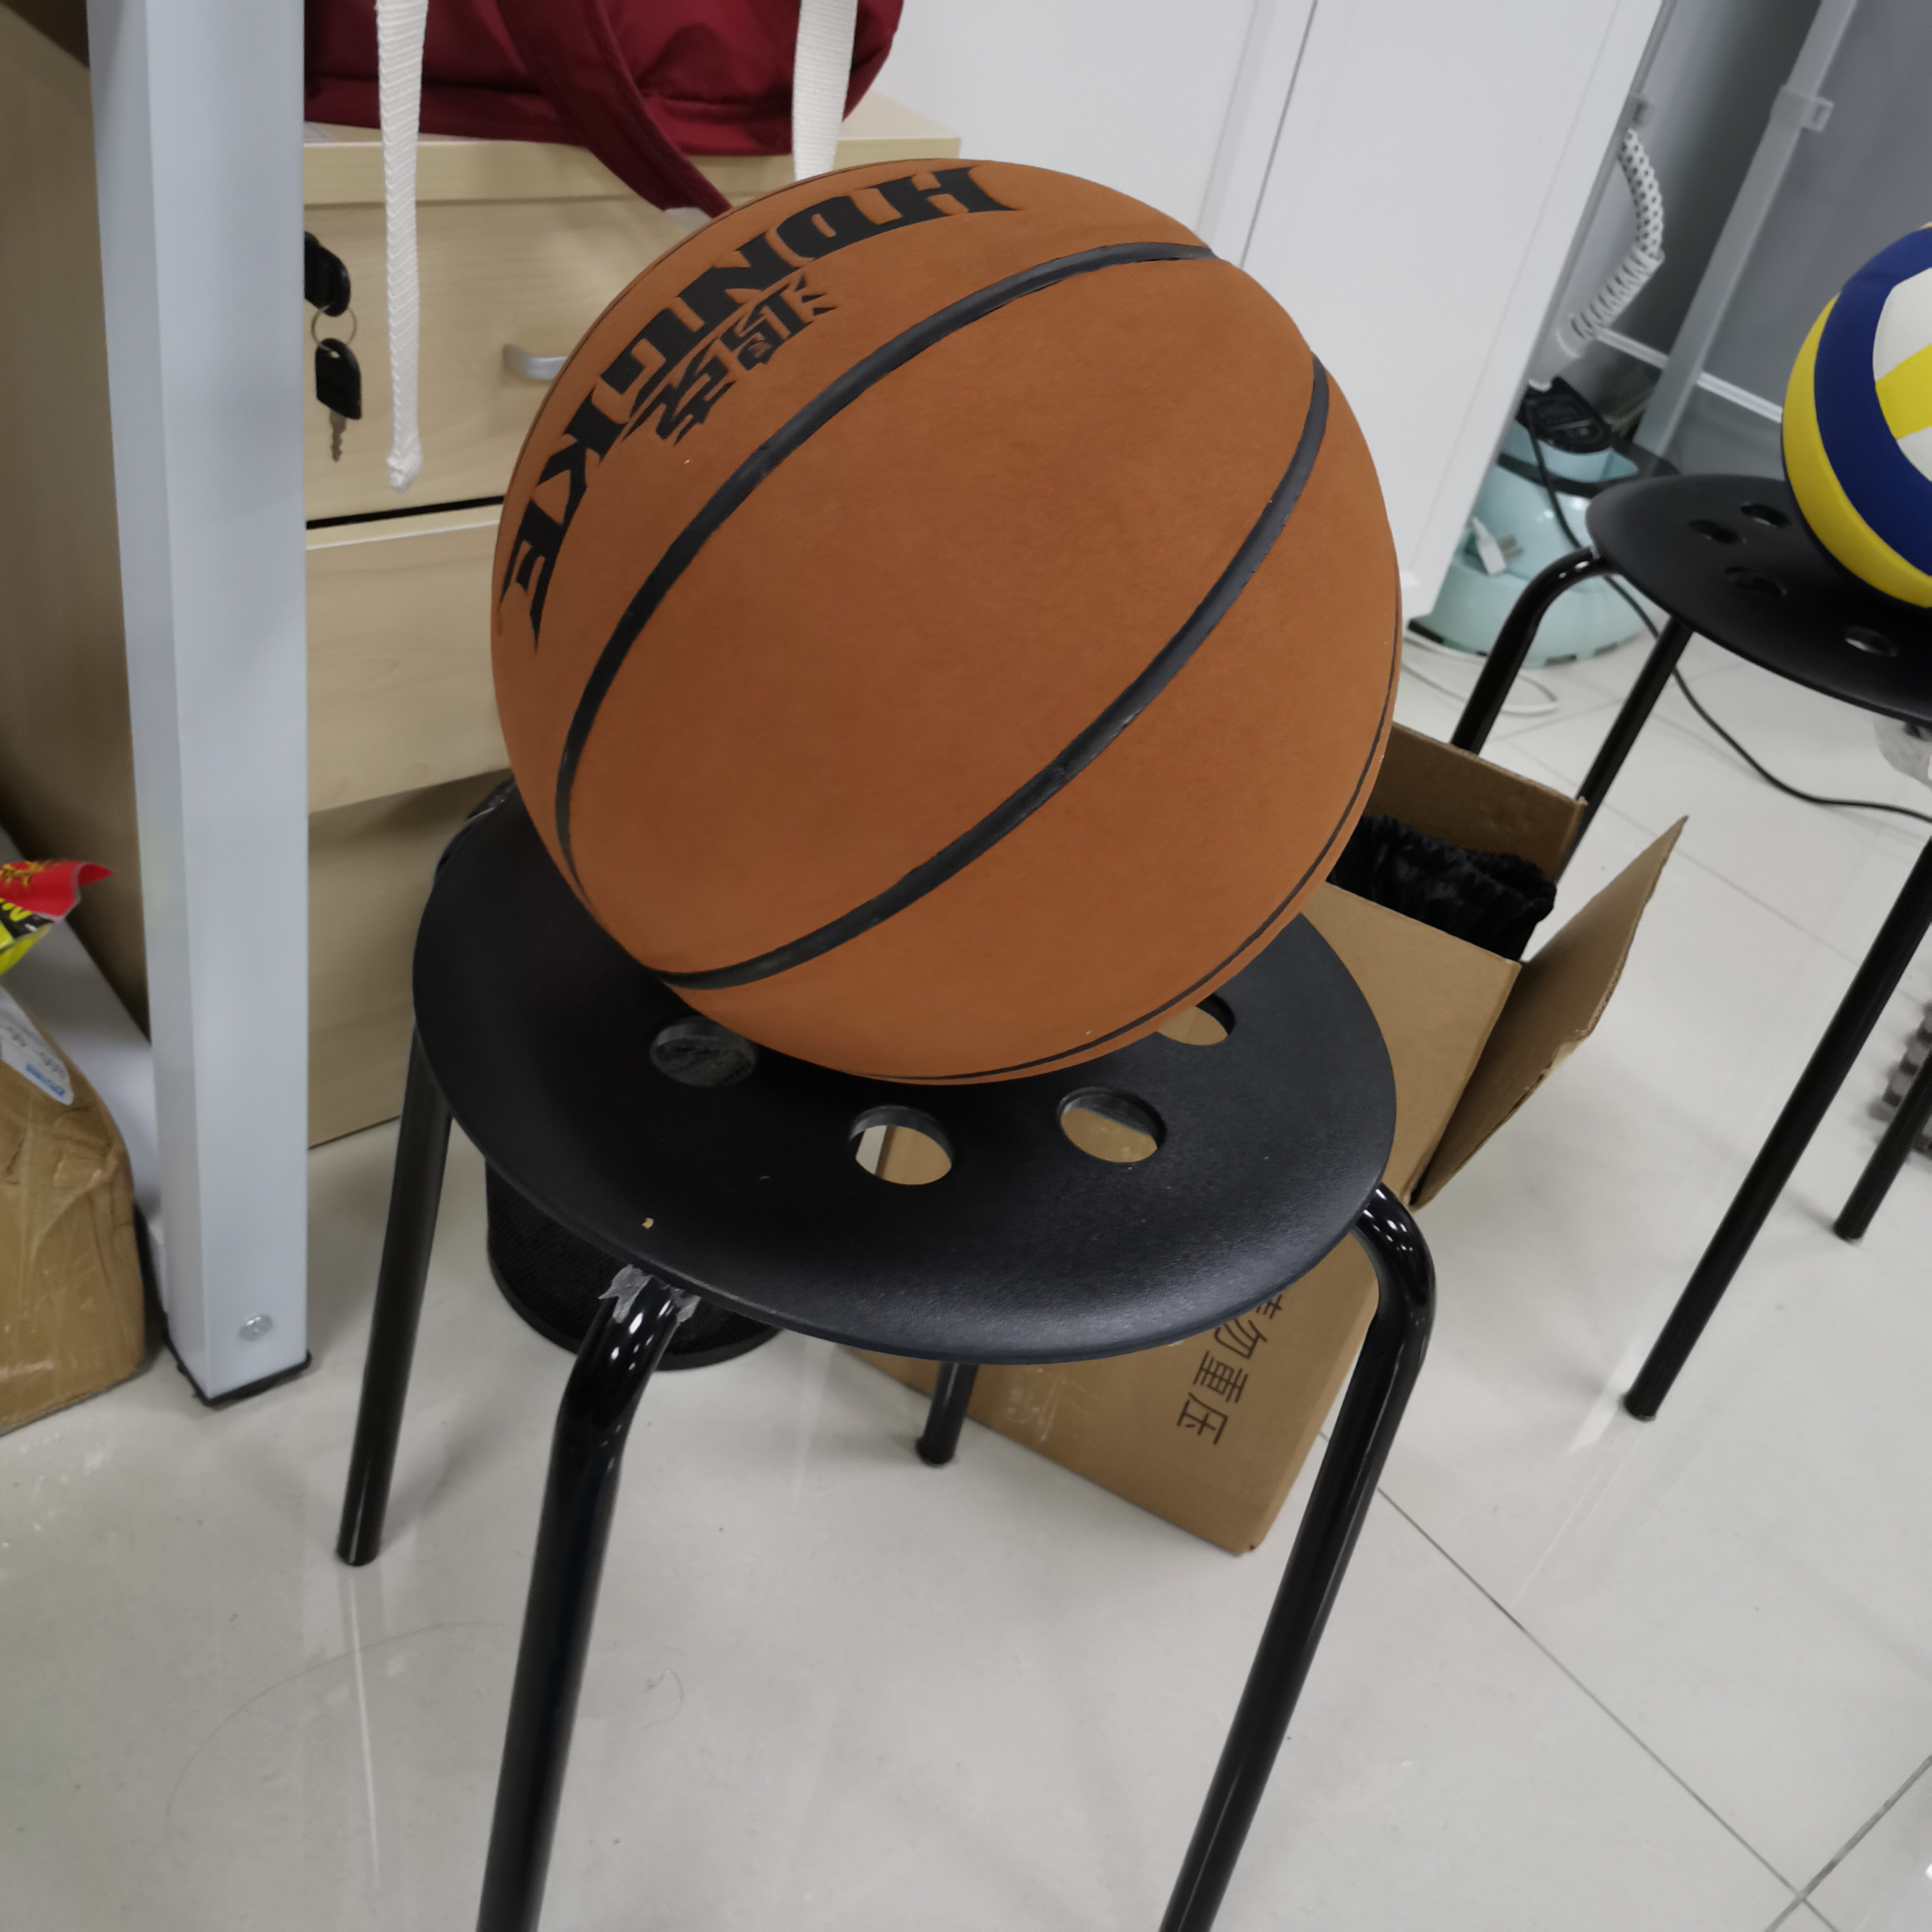basketball: (492, 157, 1405, 1086)
volleyball: (1787, 223, 1932, 603)
